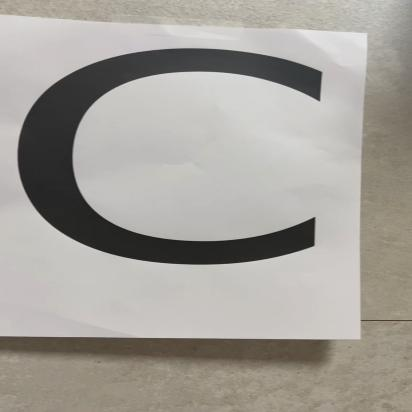seat: (0, 21, 348, 328)
